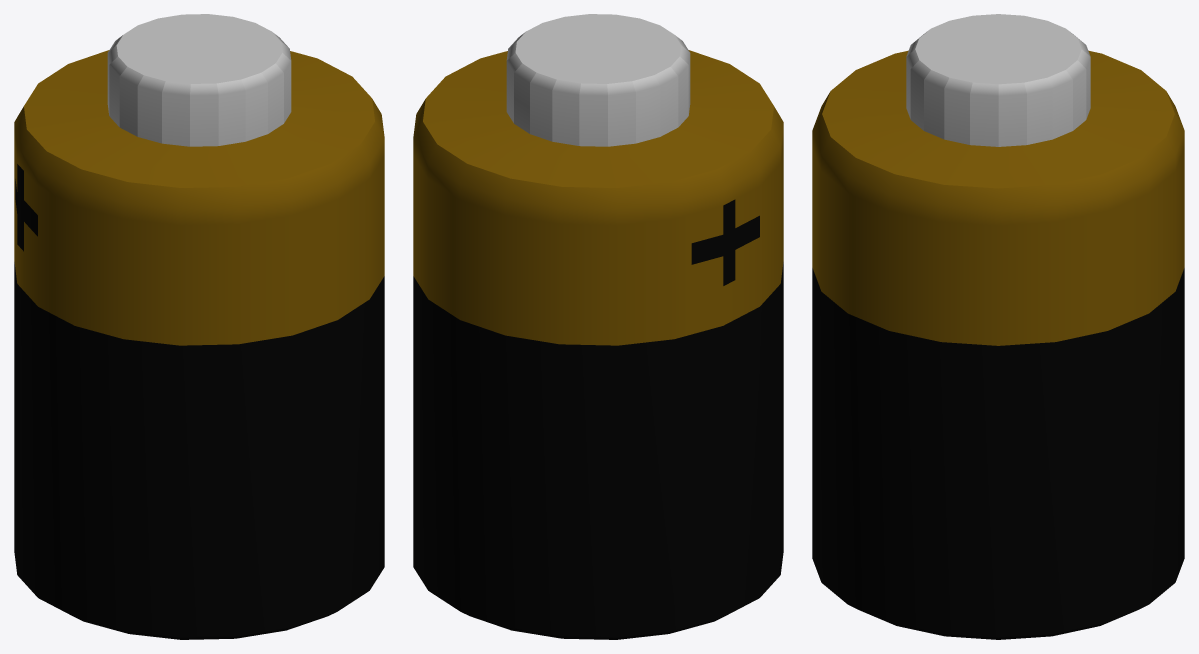
File: battery.fbx
3 renders of one model, left to right at view 1: azimuth 30°, elevation 25°; view 2: azimuth 150°, elevation 25°; view 3: azimuth 270°, elevation 25°, orthographic.
Visible parts, largest first — view 1: pCylinder13; view 2: pCylinder13; view 3: pCylinder13.
Boxes of the visible parts, x1,y1,x2,y2 form: pCylinder13: [14, 14, 384, 639]; pCylinder13: [413, 14, 783, 639]; pCylinder13: [812, 14, 1184, 639].
Bounding box in the file's own units: 0.3077 × 0.4719 × 0.3077.
